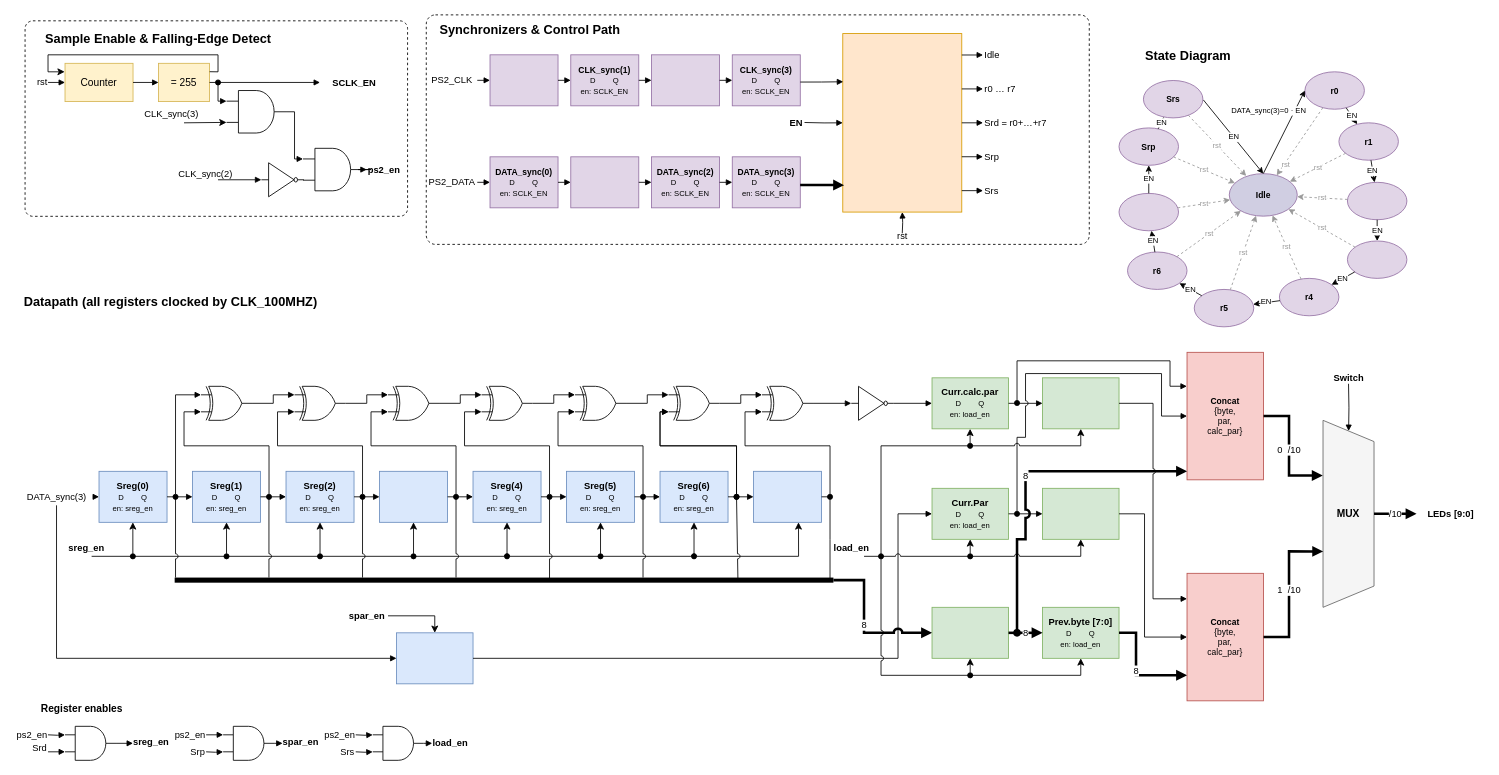
This 1499x775 diagram has some shape labels left out. The centre of each missing label's shape, as x and y in pixels:
CLK_sync(0) D Q en: SCLK_EN: point 523,80
CLK_sync(2) D Q en: SCLK_EN: point 685,80
Control State Machine: point 902,122
Curr.byte [7:0] D Q en: load_en: point 970,632
DATA_sync(1) D Q en: SCLK_EN: point 604,182
Prev.calc.par D Q en: load_en: point 1080,403
Prev.Par D Q en: load_en: point 1080,513
r2: point 1377,200
r3: point 1377,259
r7: point 1148,212
Spar D Q en: spar_en: point 434,658
Sreg(3) D Q en: sreg_en: point 413,496
Sreg(7) D Q en: sreg_en: point 787,496
